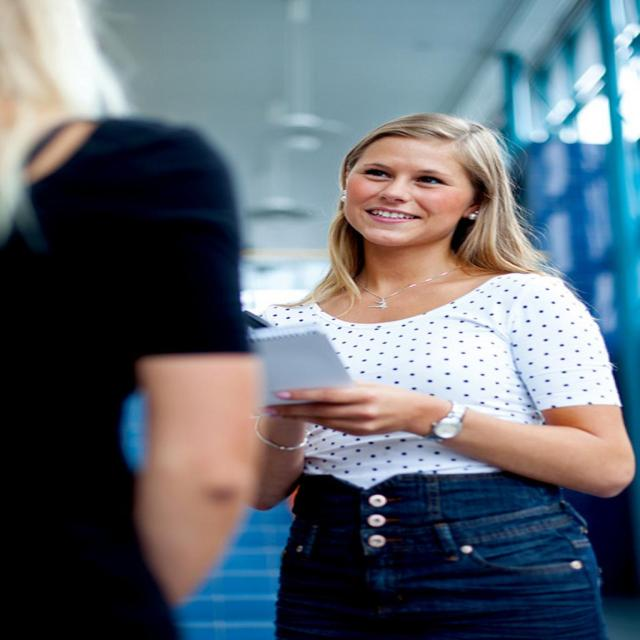Face: (324, 132, 494, 253)
